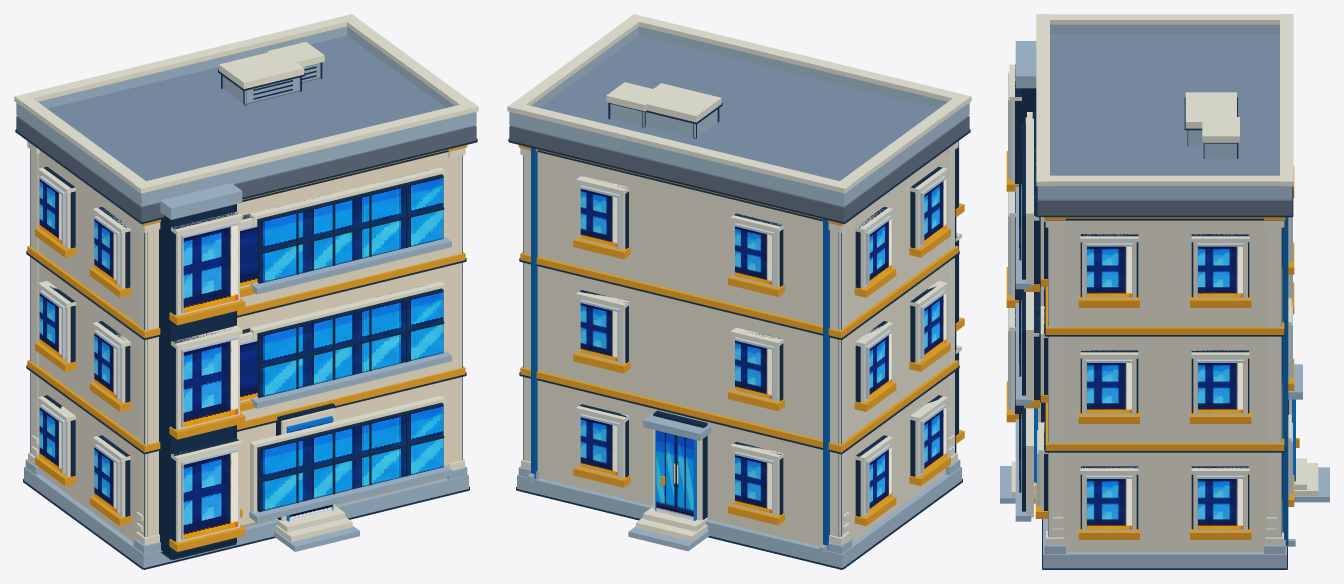
3 views of the same model, side by side, from view 1: azimuth 30°, elevation 25°; view 2: azimuth 150°, elevation 25°; view 3: azimuth 270°, elevation 25° (orthographic).
Parts seen in each view (by area): view 1: B06-02 玻璃楼梯间办公楼; view 2: B06-02 玻璃楼梯间办公楼; view 3: B06-02 玻璃楼梯间办公楼.
Boxes of the visible parts, x1,y1,x2,y2 form: B06-02 玻璃楼梯间办公楼: (14,14,478,569); B06-02 玻璃楼梯间办公楼: (507,14,971,569); B06-02 玻璃楼梯间办公楼: (1000,14,1329,569).
Size of the model in its own units: 7.92 by 8.81 by 6.58.
Materials: 2 (1 with a texture image).
